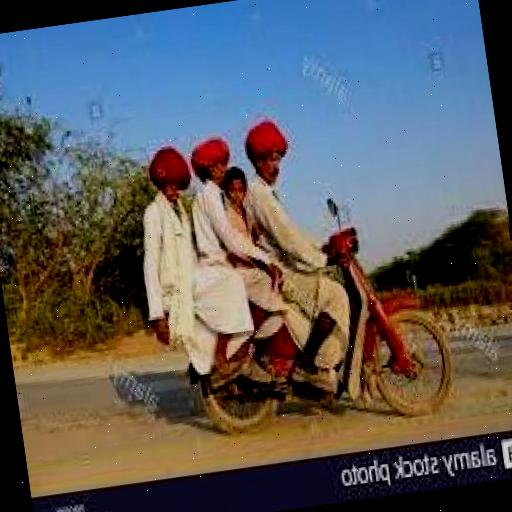no helmet: (244, 99, 326, 200)
triple riding: (121, 70, 469, 464)
